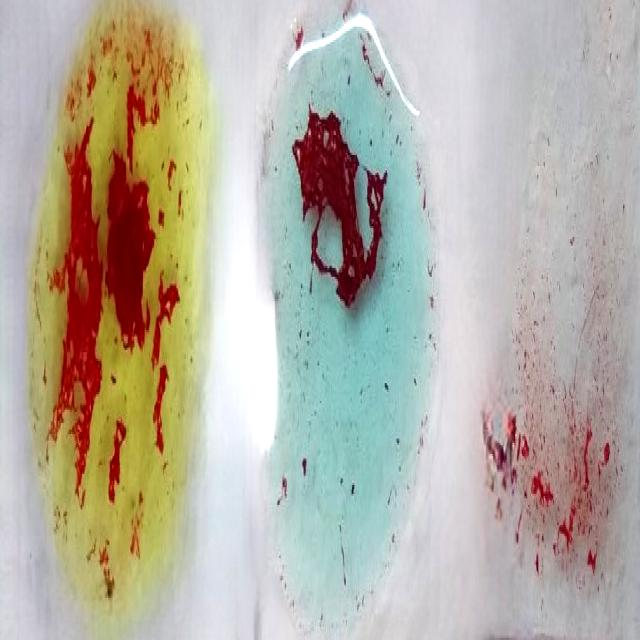A: (264, 27, 434, 640)
B: (34, 16, 206, 628)
D: (489, 51, 627, 640)
